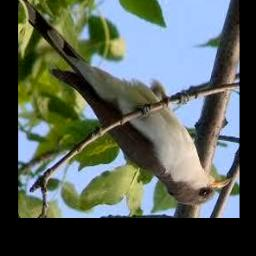Cuckoo: (18, 0, 231, 205)
